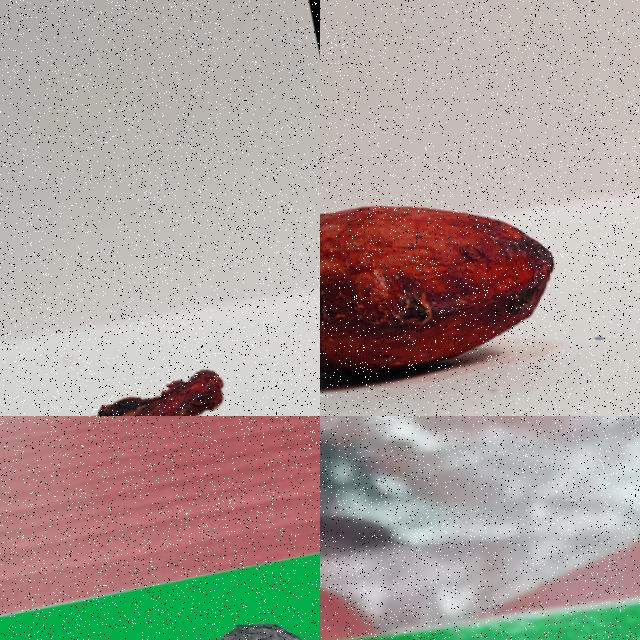Fine_cocoabeans: (320, 122, 616, 415), (90, 555, 319, 639)
Flat_cocoabeans: (0, 301, 286, 415), (381, 567, 639, 639)
